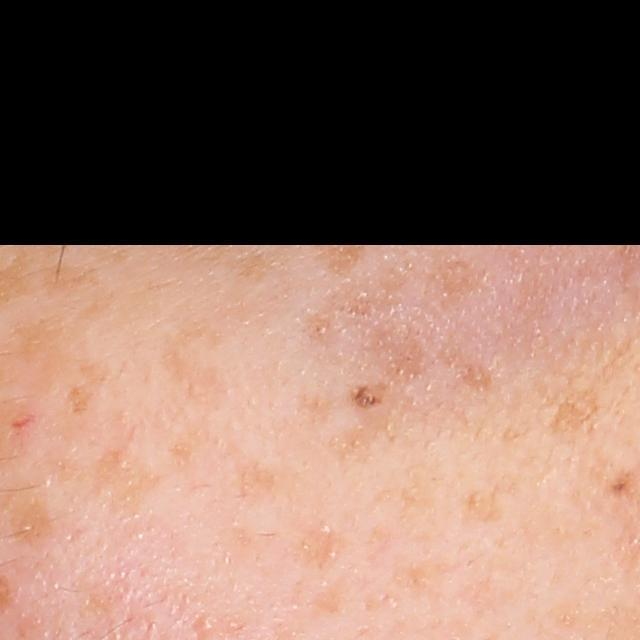melasma: (291, 248, 498, 478), (8, 287, 118, 401), (51, 419, 169, 523), (529, 344, 637, 450), (158, 305, 239, 426), (14, 206, 112, 297), (169, 216, 276, 280), (463, 451, 542, 527), (229, 441, 292, 507), (63, 354, 117, 421), (290, 519, 352, 574), (163, 415, 220, 472), (312, 230, 369, 278)
